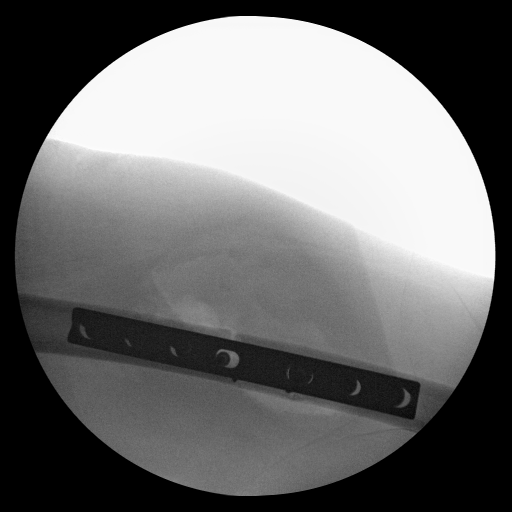implant: (66, 303, 419, 421)
